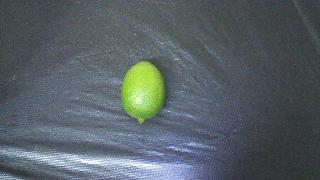LOCAL: (121, 61, 165, 124)
